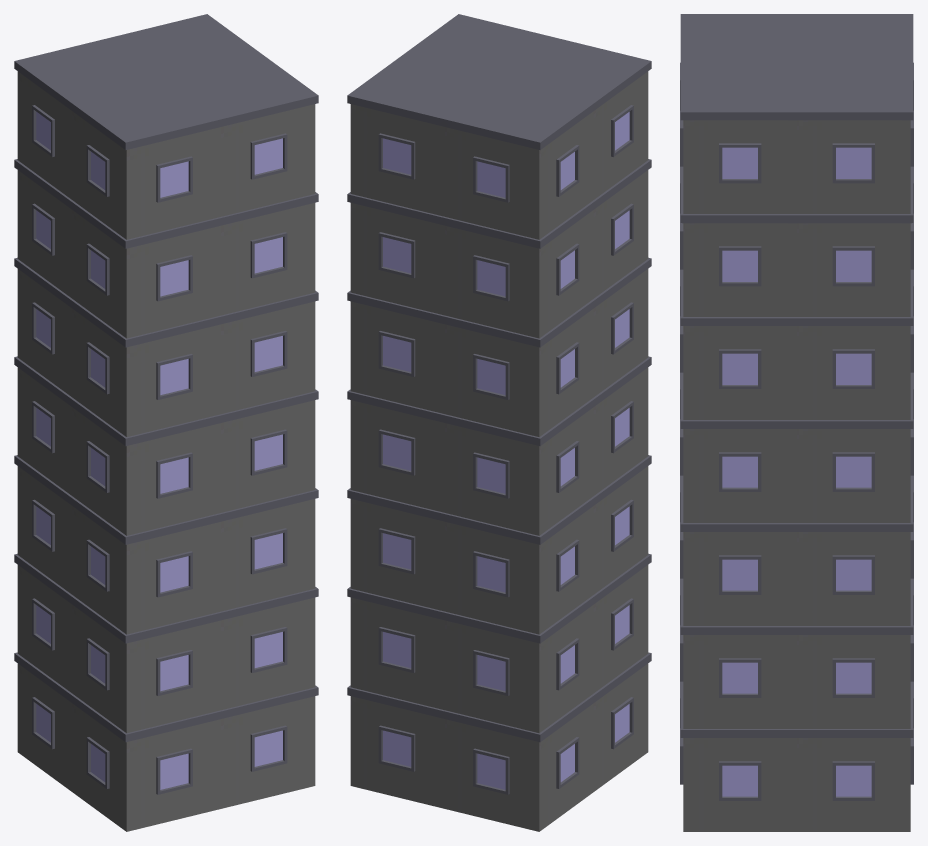
File: obj_flat_2x2_sqaure.FBX
The picture shows the model from 3 angles, left to right: view 1: azimuth 30°, elevation 25°; view 2: azimuth 150°, elevation 25°; view 3: azimuth 270°, elevation 25°; orthographic projection. The views are drawn at different scales.
Parts seen in each view (by area): view 1: obj_flat_2x2_sqaure; view 2: obj_flat_2x2_sqaure; view 3: obj_flat_2x2_sqaure.
Boxes of the visible parts, x1,y1,x2,y2 form: obj_flat_2x2_sqaure: (14, 14, 318, 831); obj_flat_2x2_sqaure: (347, 14, 651, 831); obj_flat_2x2_sqaure: (680, 14, 913, 831).
Bounding box in the file's own units: 4.11 × 14 × 4.11.
1 material, 1 textured.
